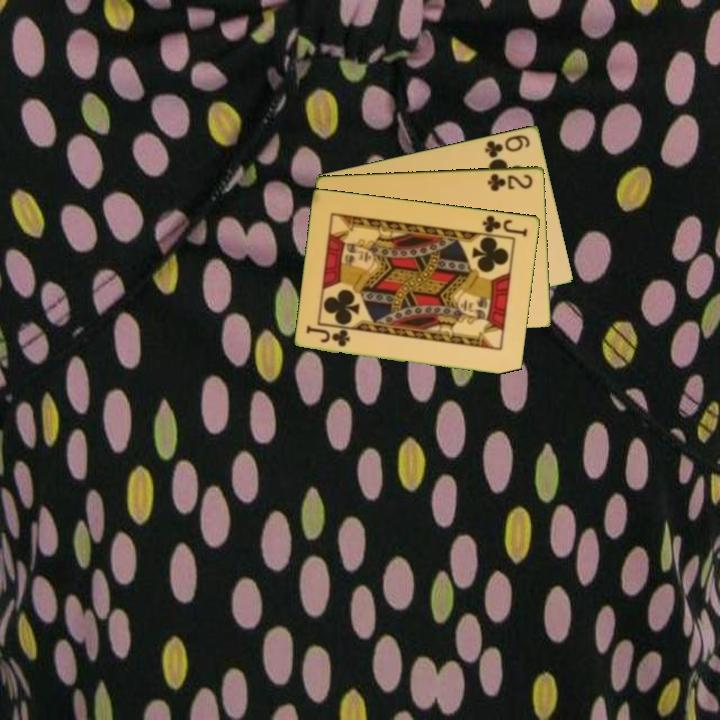2c: (484, 170, 536, 194)
6c: (481, 131, 533, 160)
Jc: (479, 211, 531, 240), (303, 323, 353, 349)
